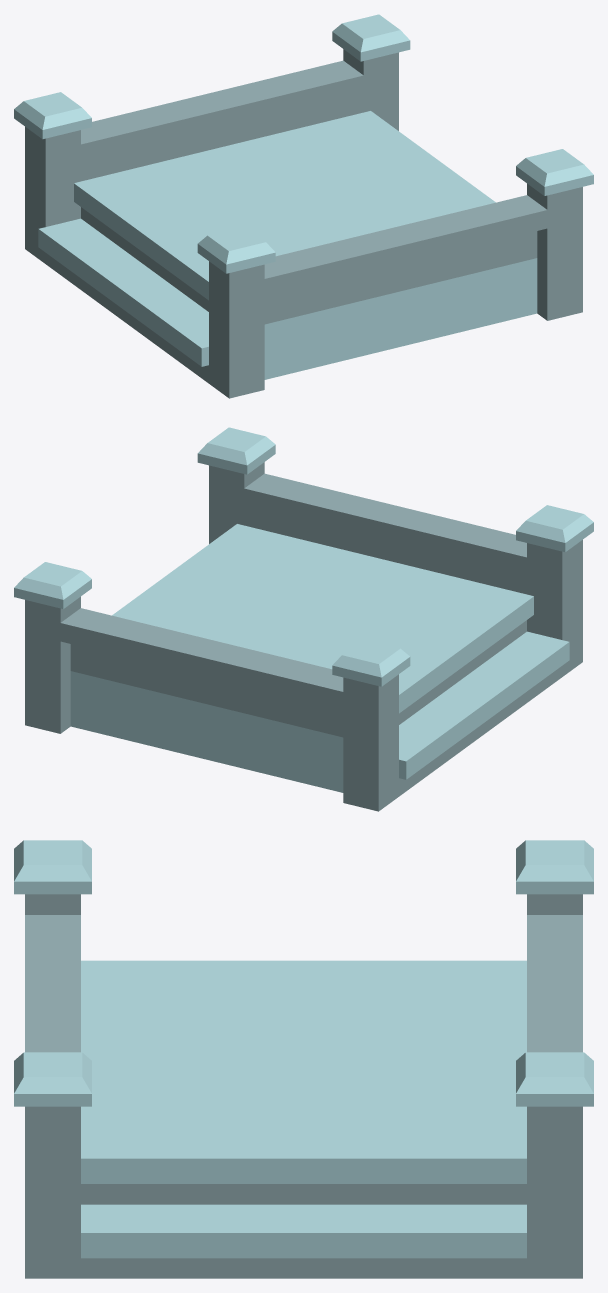
3 renders of one model, top to bottom at view 1: azimuth 30°, elevation 25°; view 2: azimuth 150°, elevation 25°; view 3: azimuth 270°, elevation 25°, orthographic. The views are drawn at different scales.
Parts seen in each view (by area): view 1: bridge_stone; view 2: bridge_stone; view 3: bridge_stone.
Boxes of the visible parts, box(x1,y1,x2,y2) form: bridge_stone: box(14, 14, 593, 398); bridge_stone: box(14, 427, 593, 811); bridge_stone: box(14, 840, 593, 1278).
Bounding box in the file's own units: 1.04 × 0.4 × 1.04.
